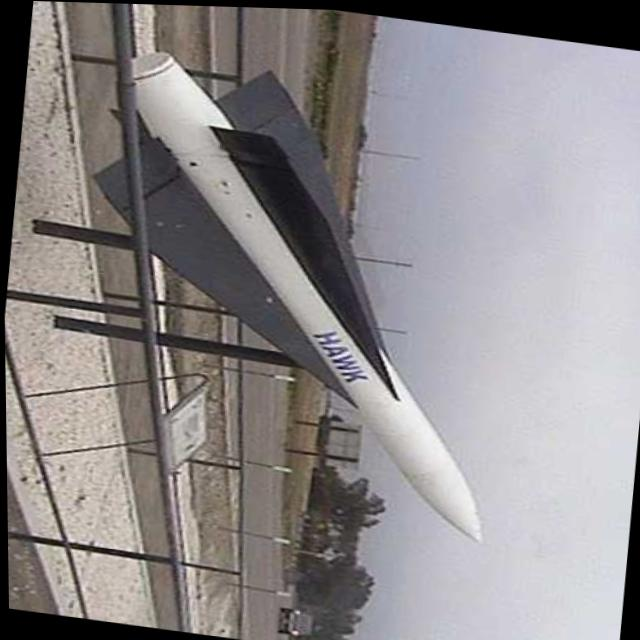missile: (78, 40, 527, 540)
